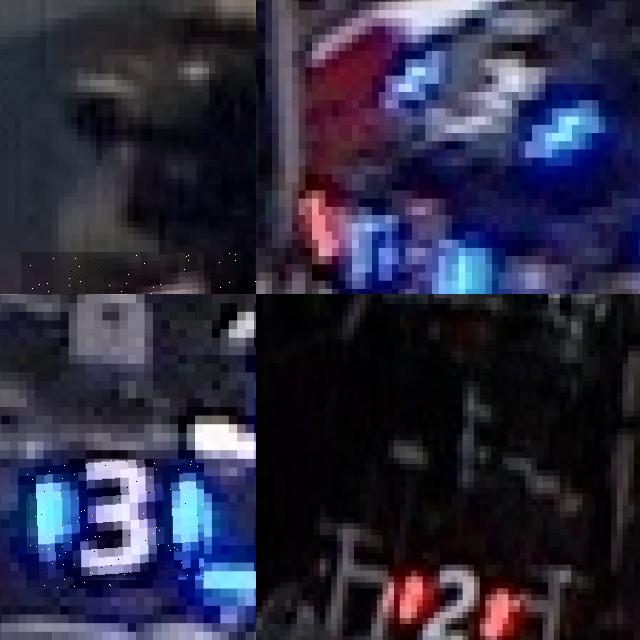B3: (26, 459, 204, 588), (338, 190, 492, 294)
R2: (394, 564, 514, 640)
R4: (20, 252, 256, 294)
